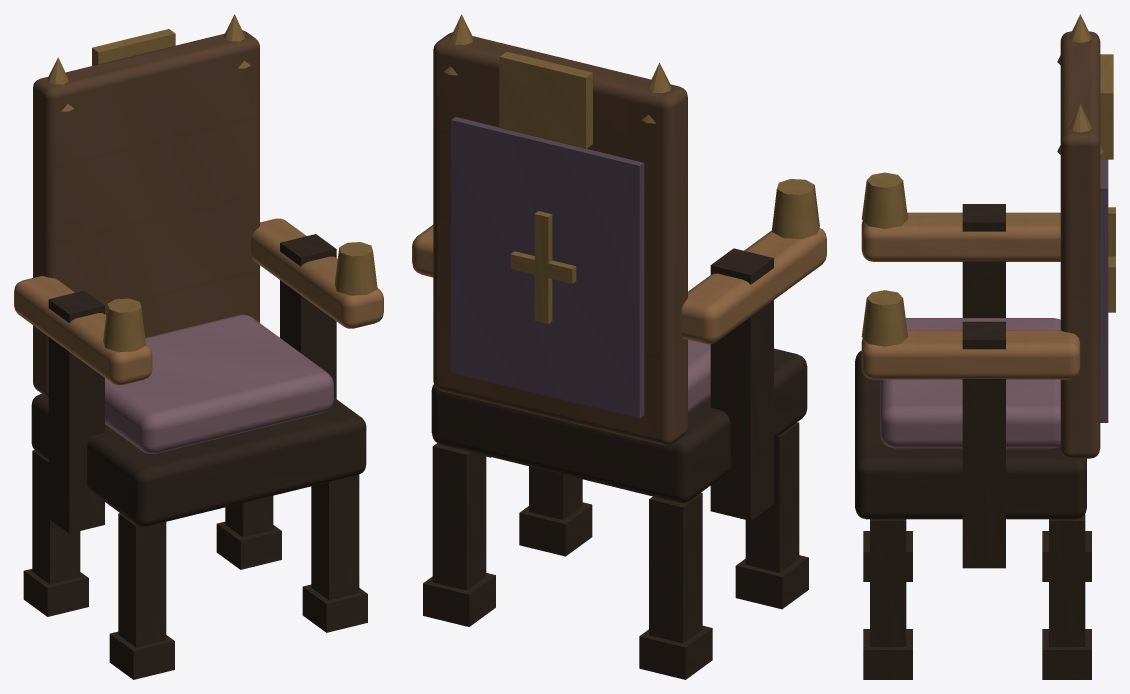
File: sk-household-royal-throne.glb
3 renders of one model, left to right at view 1: azimuth 30°, elevation 25°; view 2: azimuth 150°, elevation 25°; view 3: azimuth 270°, elevation 25°, orthographic. The views are drawn at different scales.
Parts seen in each view (by area): view 1: household:royal_throne-static-wood (×2), throne-back-panel, throne-seat-cushion, household:royal_throne-static-metal, throne-back-static-metal; view 2: household:royal_throne-static-wood (×2), throne-back-upholstery, throne-back-panel, throne-back-static-metal, household:royal_throne-static-metal, throne-seat-cushion; view 3: household:royal_throne-static-wood (×2), throne-back-panel, throne-seat-cushion, household:royal_throne-static-metal, throne-back-upholstery, throne-back-static-metal.
Boxes of the visible parts, x1,y1,x2,y2 form: household:royal_throne-static-wood (×2): (14, 218, 383, 679); throne-back-panel: (33, 30, 259, 397); throne-seat-cushion: (105, 314, 333, 453); household:royal_throne-static-metal: (103, 242, 377, 352); throne-back-static-metal: (47, 14, 250, 111); household:royal_throne-static-wood (×2): (412, 225, 826, 679); throne-back-upholstery: (451, 117, 644, 418); throne-back-panel: (433, 32, 687, 445); throne-back-static-metal: (443, 14, 671, 148); household:royal_throne-static-metal: (510, 179, 819, 323); throne-seat-cushion: (688, 340, 710, 413); household:royal_throne-static-wood (×2): (855, 204, 1091, 679); throne-back-panel: (1060, 31, 1100, 458); throne-seat-cushion: (880, 318, 1060, 448); household:royal_throne-static-metal: (861, 172, 1115, 346); throne-back-upholstery: (1100, 159, 1108, 422); throne-back-static-metal: (1057, 14, 1113, 159).
Bounding box in the file's own units: 0.99 × 1.87 × 0.787.
6 materials, 6 textured.
